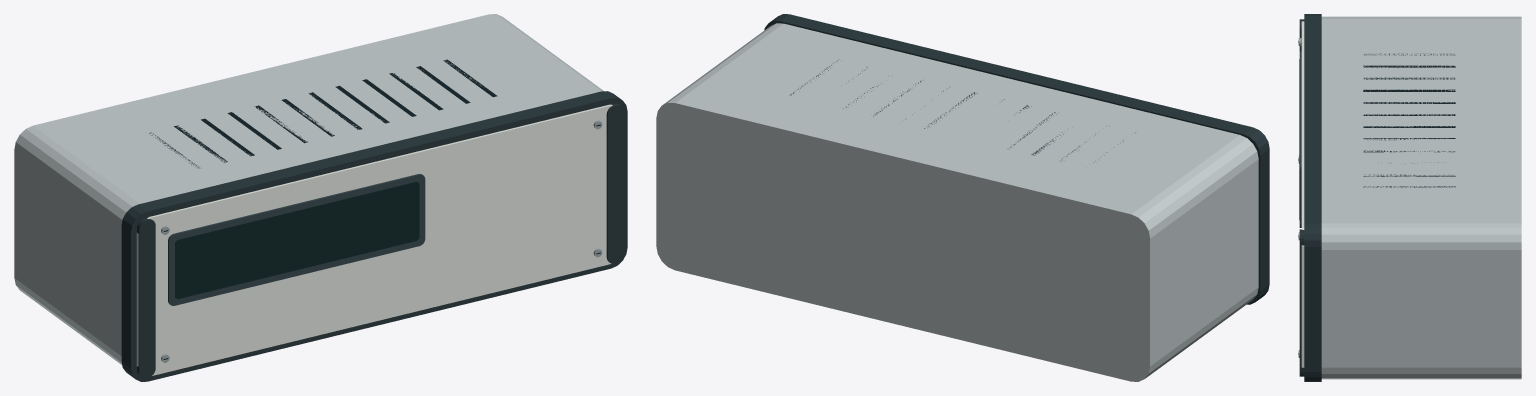
Rendered from generator.obj.
3 views of the same model, side by side, from view 1: azimuth 30°, elevation 25°; view 2: azimuth 150°, elevation 25°; view 3: azimuth 270°, elevation 25° (orthographic). The views are drawn at different scales.
Bounding box in the file's own units: 1.06 × 0.371 × 0.4465.
